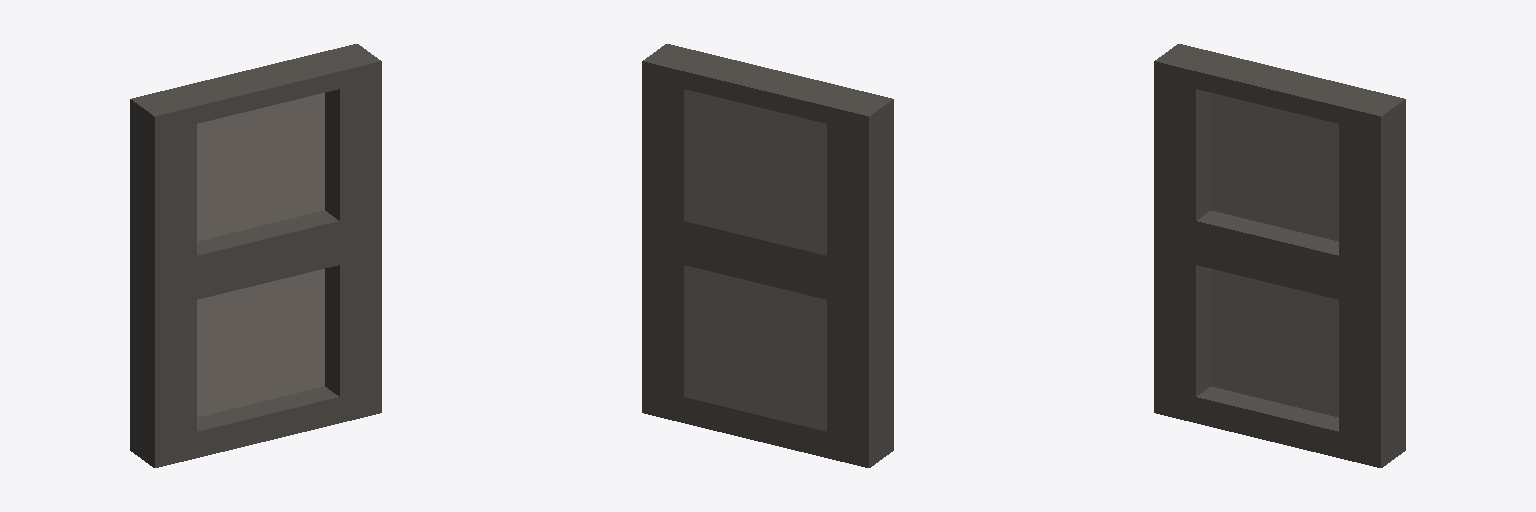
3 views of the same model, side by side, from view 1: azimuth 30°, elevation 25°; view 2: azimuth 150°, elevation 25°; view 3: azimuth 330°, elevation 25° (orthographic).
Parts seen in each view (by area): view 1: object 1; view 2: object 1; view 3: object 1.
Boxes of the visible parts, box(x1,y1,x2,y2) form: object 1: box(130, 44, 381, 467); object 1: box(642, 44, 893, 467); object 1: box(1154, 44, 1405, 467).
Bounding box in the file's own units: 2.7 × 4 × 0.5.
1 materials, 1 textured.